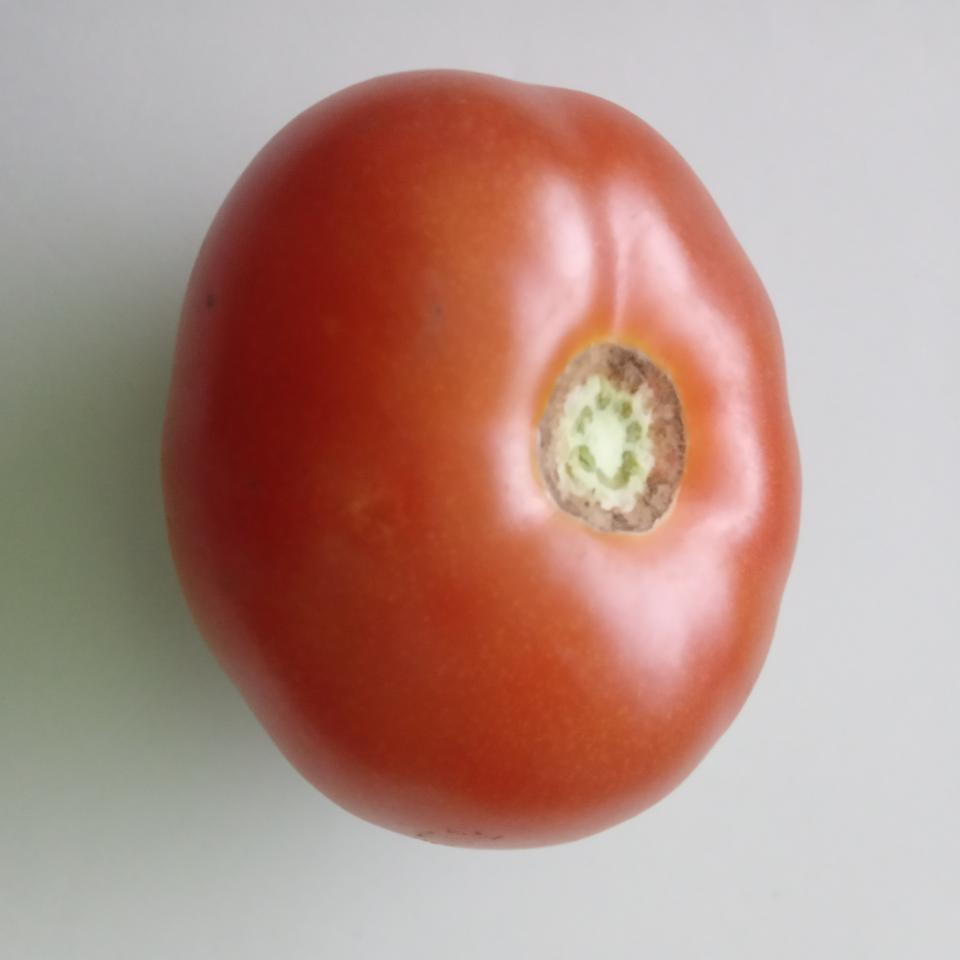Healthy: (147, 56, 813, 864)
